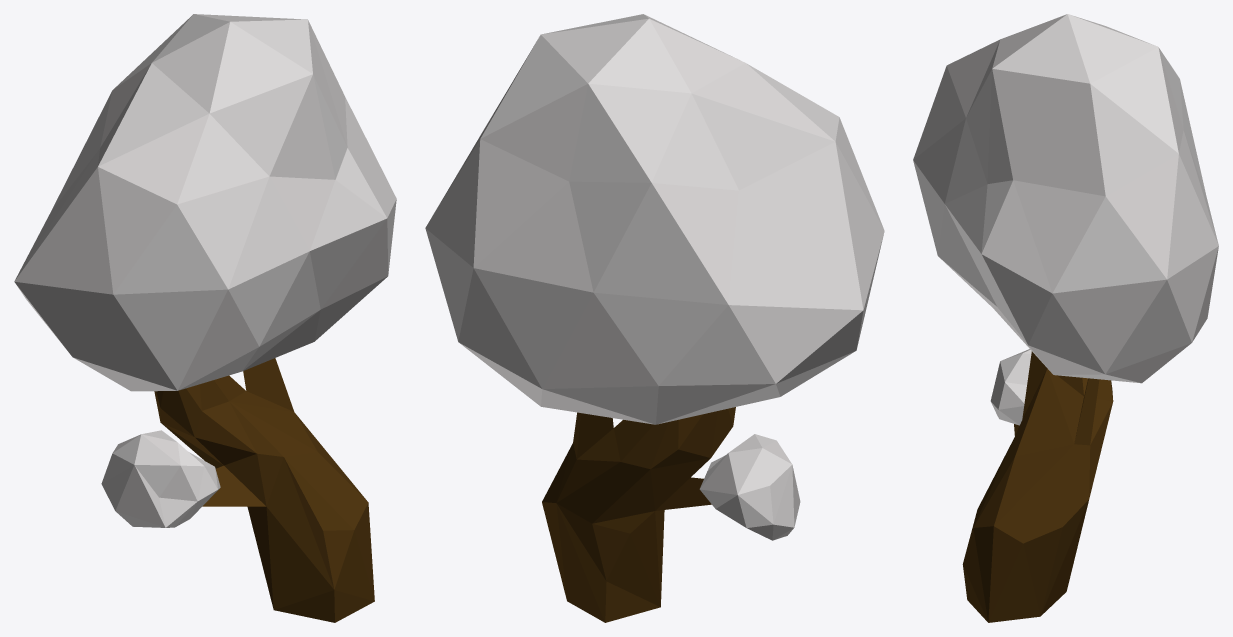
File: Snow_tree_big_puff_small_branch.fbx
3 views of the same model, side by side, from view 1: azimuth 30°, elevation 25°; view 2: azimuth 150°, elevation 25°; view 3: azimuth 270°, elevation 25° (orthographic). The views are drawn at different scales.
Parts seen in each view (by area): view 1: Icosphere; view 2: Icosphere; view 3: Icosphere.
Boxes of the visible parts, <box> form: Icosphere: <box>14,14,396,622</box>; Icosphere: <box>425,14,884,622</box>; Icosphere: <box>913,14,1218,622</box>.
Size of the model in its own units: 626 by 941 by 465.
